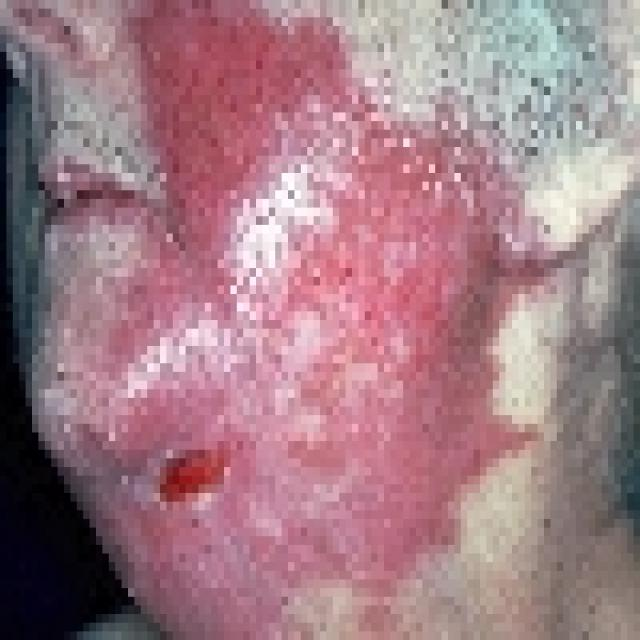lupus: (2, 1, 640, 460)
